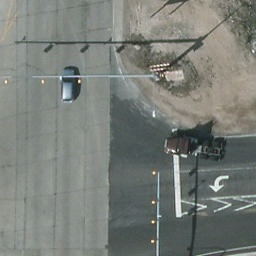car: (59, 67, 78, 103)
truck: (165, 132, 224, 164)
